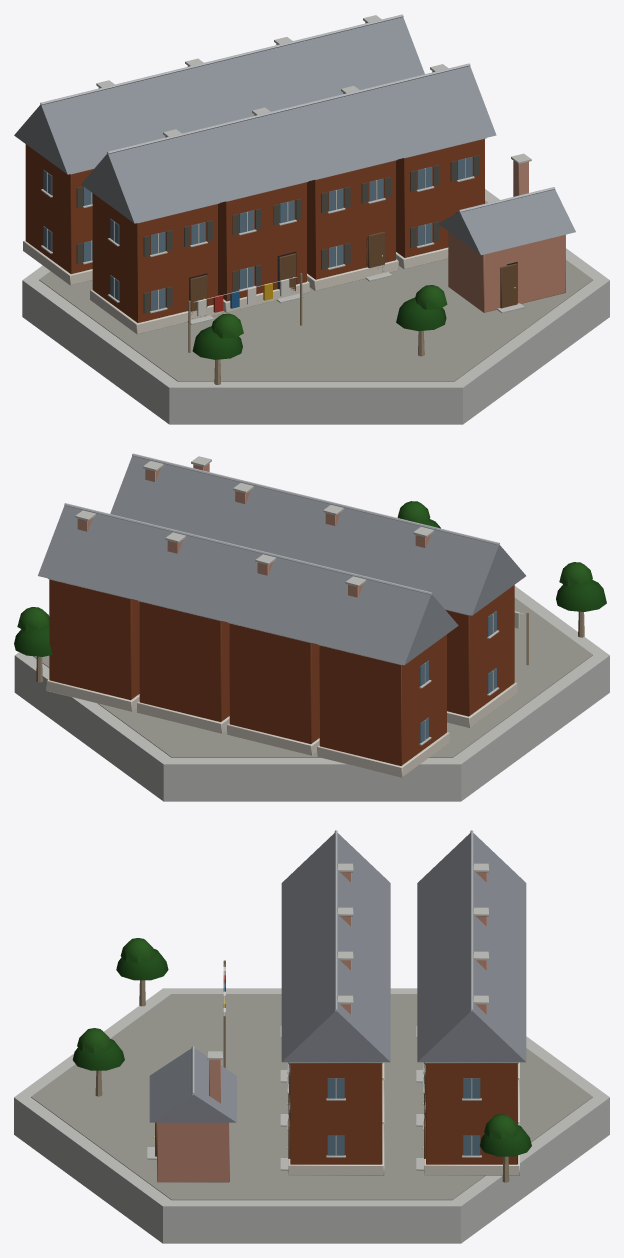
File: workerHouse_us.glb
The picture shows the model from 3 angles, top to bottom: view 1: azimuth 30°, elevation 25°; view 2: azimuth 150°, elevation 25°; view 3: azimuth 270°, elevation 25°; orthographic projection.
Parts seen in each view (by area): view 1: roof_slate, wood, wall_concrete, pavers, brick, glass, stone, leaf, metal, paint; view 2: roof_slate, wood, wall_concrete, pavers, stone, leaf, metal, brick, glass; view 3: roof_slate, pavers, wall_concrete, wood, brick, leaf, stone, metal, glass.
Boxes of the visible parts, box(x1,y1,x2,y2) form: roof_slate: box(14, 17, 575, 255); wood: box(25, 139, 517, 384); wall_concrete: box(22, 15, 609, 424); pavers: box(39, 200, 592, 381); brick: box(98, 22, 565, 312); glass: box(43, 157, 472, 310); stone: box(23, 240, 448, 334); leaf: box(192, 285, 447, 359); metal: box(40, 14, 555, 212); paint: box(193, 277, 296, 316); roof_slate: box(38, 456, 525, 665); wood: box(36, 579, 584, 765); wall_concrete: box(14, 456, 609, 801); pavers: box(33, 597, 592, 757); stone: box(46, 679, 517, 777); leaf: box(14, 501, 606, 656); metal: box(64, 453, 499, 594); brick: box(77, 463, 430, 597); glass: box(420, 611, 496, 743); roof_slate: box(149, 833, 526, 1122); pavers: box(31, 994, 592, 1200); wall_concrete: box(14, 863, 609, 1243); wood: box(95, 960, 517, 1182); brick: box(157, 872, 486, 1182); leaf: box(72, 938, 531, 1156); stone: box(288, 1062, 519, 1175); metal: box(191, 830, 473, 1095); glass: box(289, 1065, 480, 1155).
Size of the model in its own units: 21.3 by 9.44 by 24.6.
